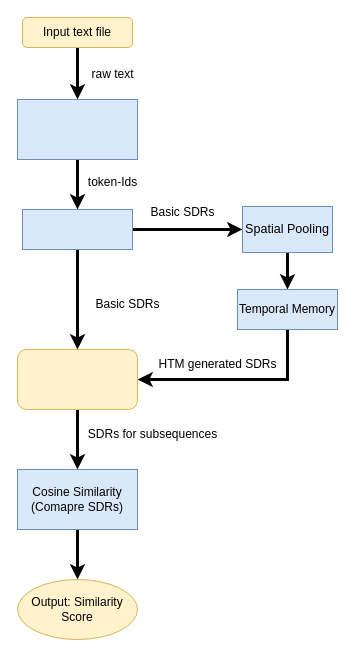
This 355x657 diagram has some shape labels left out. The box of each missing label's shape, as (x1, y1, x2, y2) in pixels:
Scaler Encoder (Direct Binarization): (22, 208, 132, 250)
Two subsequence for comparison: (16, 348, 138, 410)
Word Tokenization using BERT Tokenizer: (16, 98, 138, 160)
